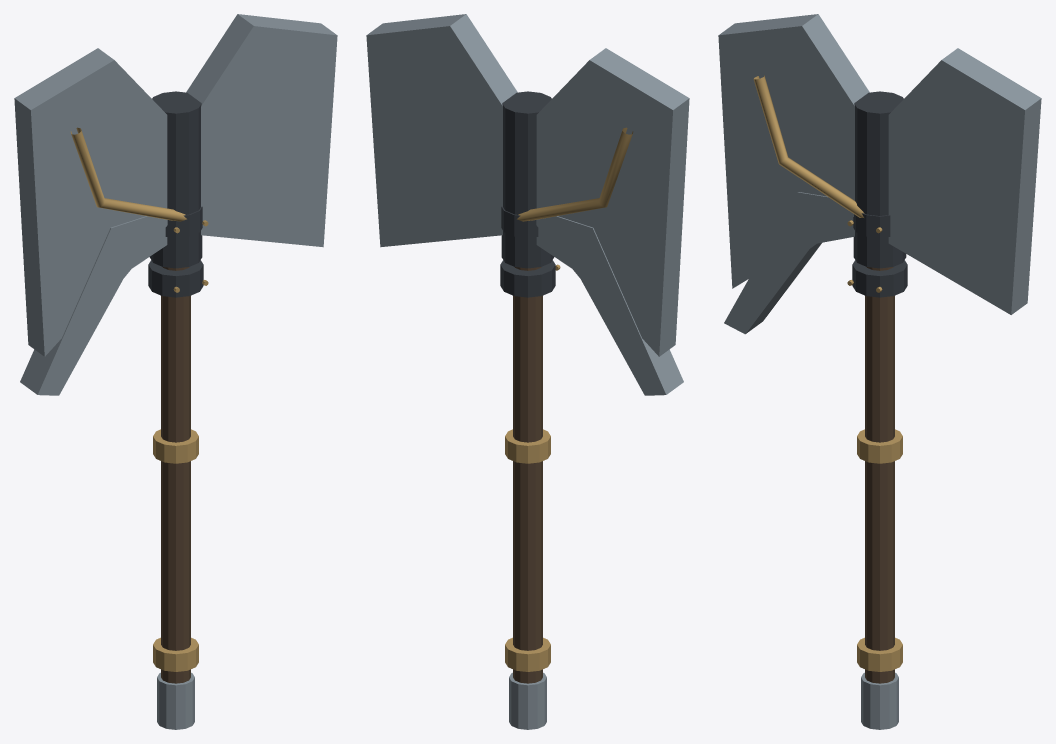
3 renders of one model, left to right at view 1: azimuth 30°, elevation 25°; view 2: azimuth 150°, elevation 25°; view 3: azimuth 330°, elevation 25°, orthographic.
Visible parts, largest first — view 1: TV-030 Veyra Morn — Founder Axe; view 2: TV-030 Veyra Morn — Founder Axe; view 3: TV-030 Veyra Morn — Founder Axe.
Boxes of the visible parts, left/top/right/bottom form: TV-030 Veyra Morn — Founder Axe: left=14, top=14, right=337, bottom=729; TV-030 Veyra Morn — Founder Axe: left=366, top=14, right=689, bottom=729; TV-030 Veyra Morn — Founder Axe: left=718, top=14, right=1041, bottom=729.
Bounding box in the file's own units: 0.539 × 1.15 × 0.091.
